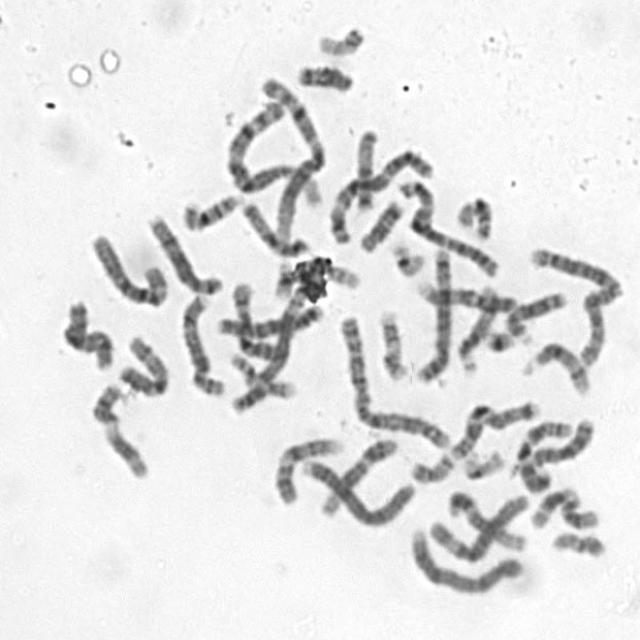A1: (257, 72, 327, 247), (222, 91, 327, 205)
A2: (334, 309, 453, 451), (524, 242, 626, 308)
A3: (393, 174, 504, 279), (325, 145, 436, 247)
B4: (297, 453, 418, 527), (407, 524, 525, 597)
B5: (413, 243, 456, 384), (211, 300, 326, 340)
C10: (228, 277, 280, 362), (116, 330, 171, 400)
C11: (87, 377, 154, 481), (525, 482, 601, 532)
C12: (317, 432, 400, 518), (434, 487, 530, 555)
C6: (423, 488, 530, 562), (88, 230, 171, 308)
C7: (446, 395, 542, 461), (512, 416, 577, 495)
C8: (143, 208, 226, 296), (177, 289, 228, 398)
C9: (270, 432, 347, 506), (410, 276, 520, 315)
D13: (526, 414, 596, 469), (503, 286, 570, 342)
D14: (453, 280, 502, 375), (520, 336, 594, 396)
D15: (236, 195, 312, 258), (351, 125, 380, 212)
E16: (178, 188, 245, 232), (454, 193, 494, 243)
E17: (224, 347, 297, 400), (375, 304, 410, 383)
E18: (355, 194, 407, 253), (292, 58, 357, 94)
F19: (457, 445, 507, 482), (386, 238, 427, 280)
F20: (547, 526, 608, 560), (406, 447, 457, 485)
G21: (270, 254, 296, 302), (480, 324, 517, 354)
G22: (313, 20, 366, 58), (323, 267, 358, 290)
X: (57, 294, 116, 372), (116, 330, 171, 400)
